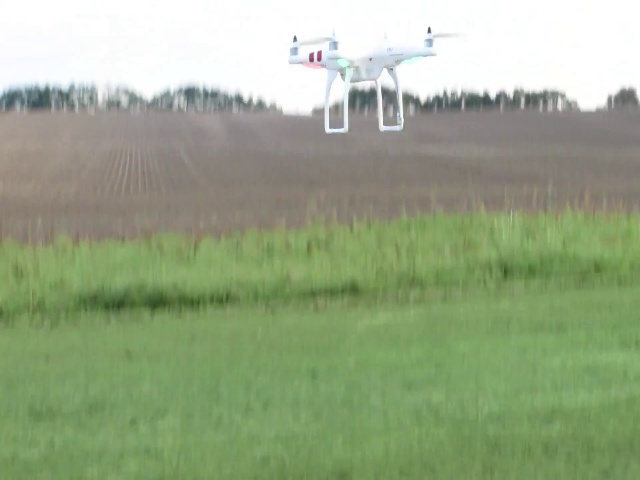drone: (276, 23, 461, 137)
